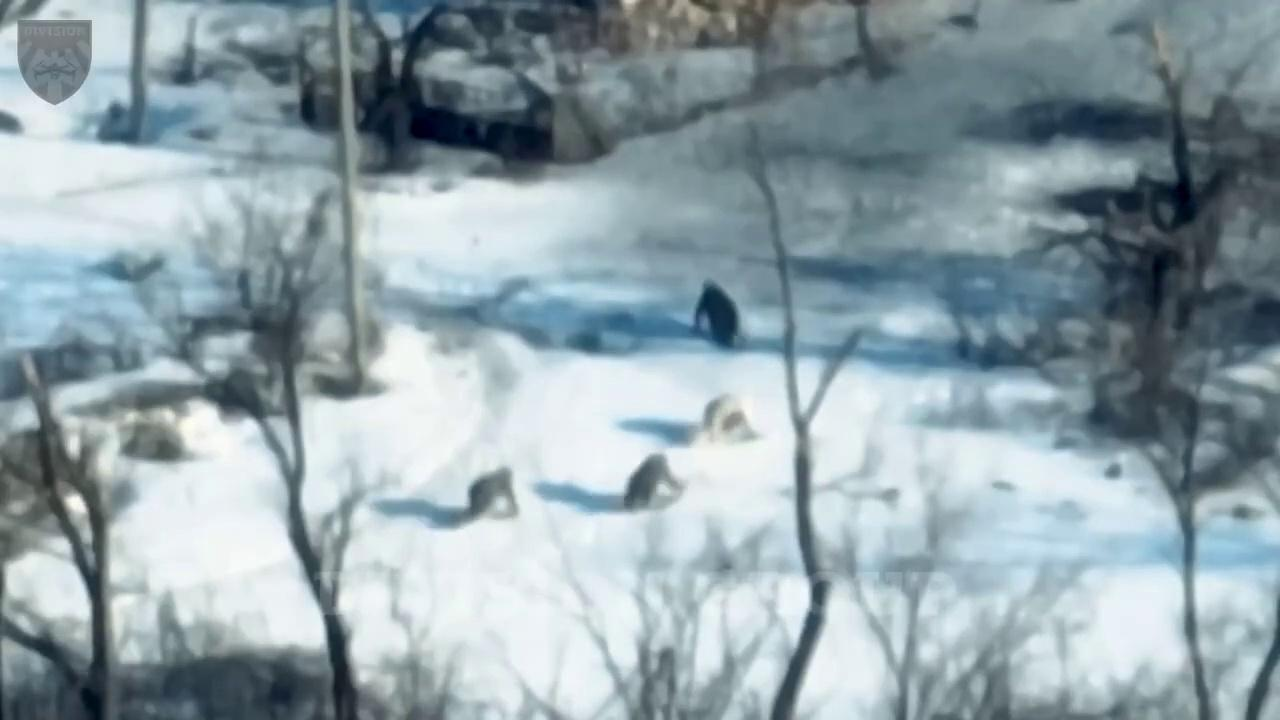person: (624, 445, 686, 514), (465, 458, 520, 526), (696, 274, 741, 352), (703, 390, 751, 441)
